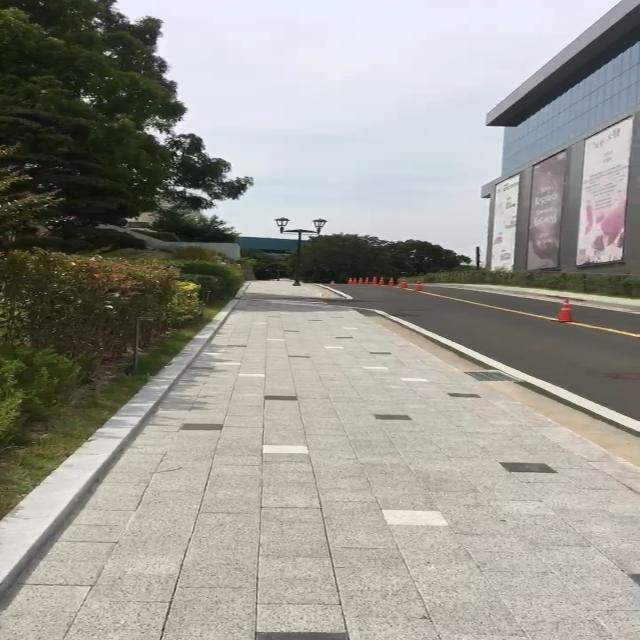obstacle: (271, 215, 333, 288), (547, 289, 585, 325)
road: (323, 279, 637, 456)
sidewalk: (0, 296, 640, 640), (412, 281, 640, 319), (237, 279, 353, 300)
